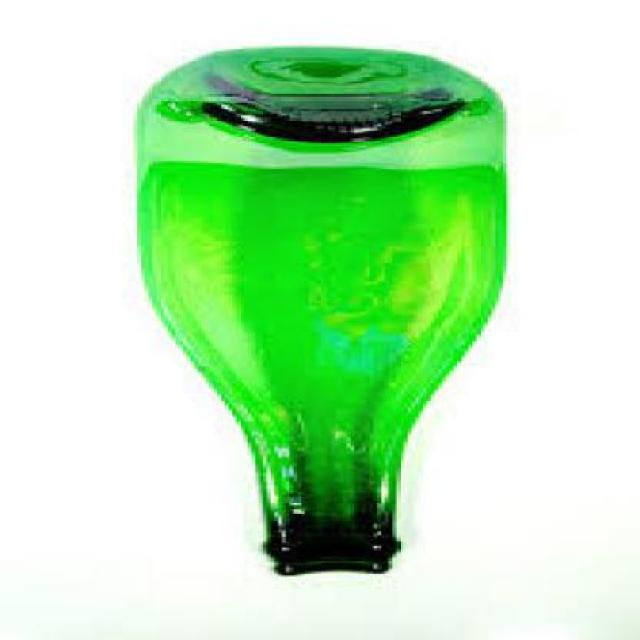GLASS: (130, 51, 502, 578)
